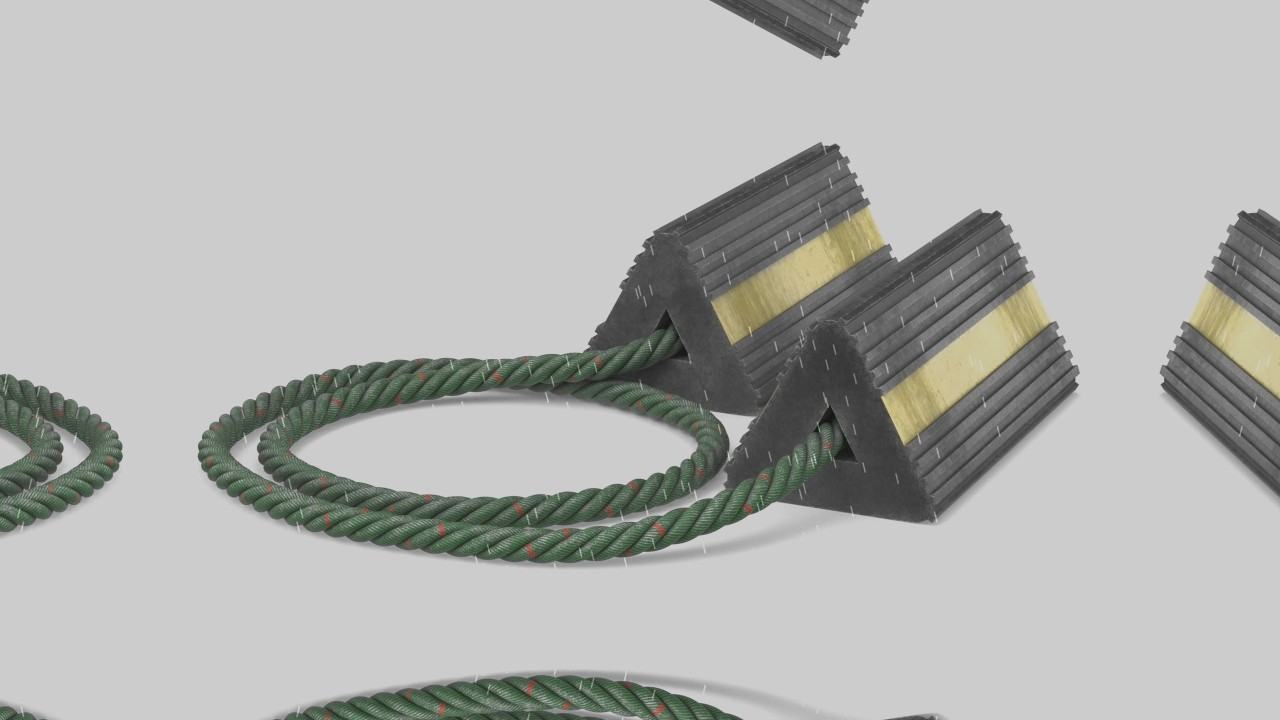chock: (724, 203, 1082, 524), (571, 142, 899, 418), (1158, 203, 1280, 524), (571, 0, 899, 59)
